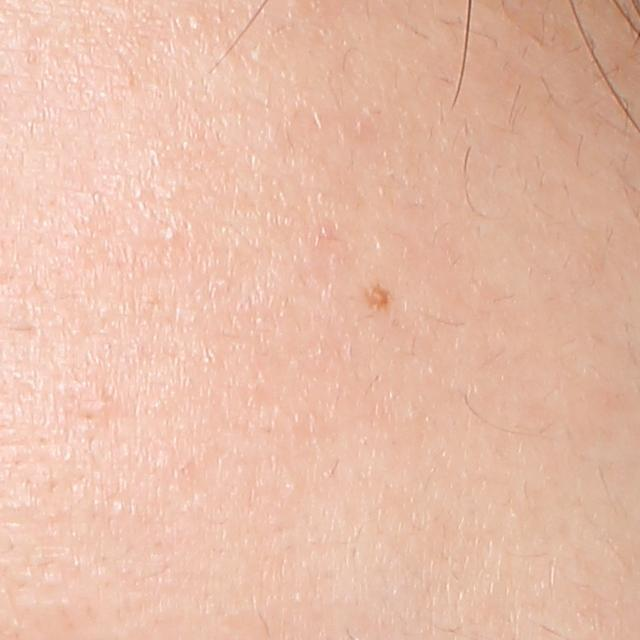comedo: (187, 12, 206, 33)
